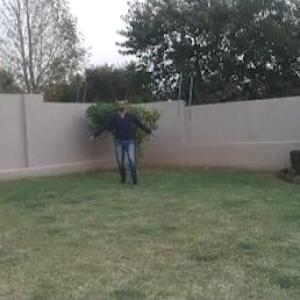land: (80, 87, 157, 191)
